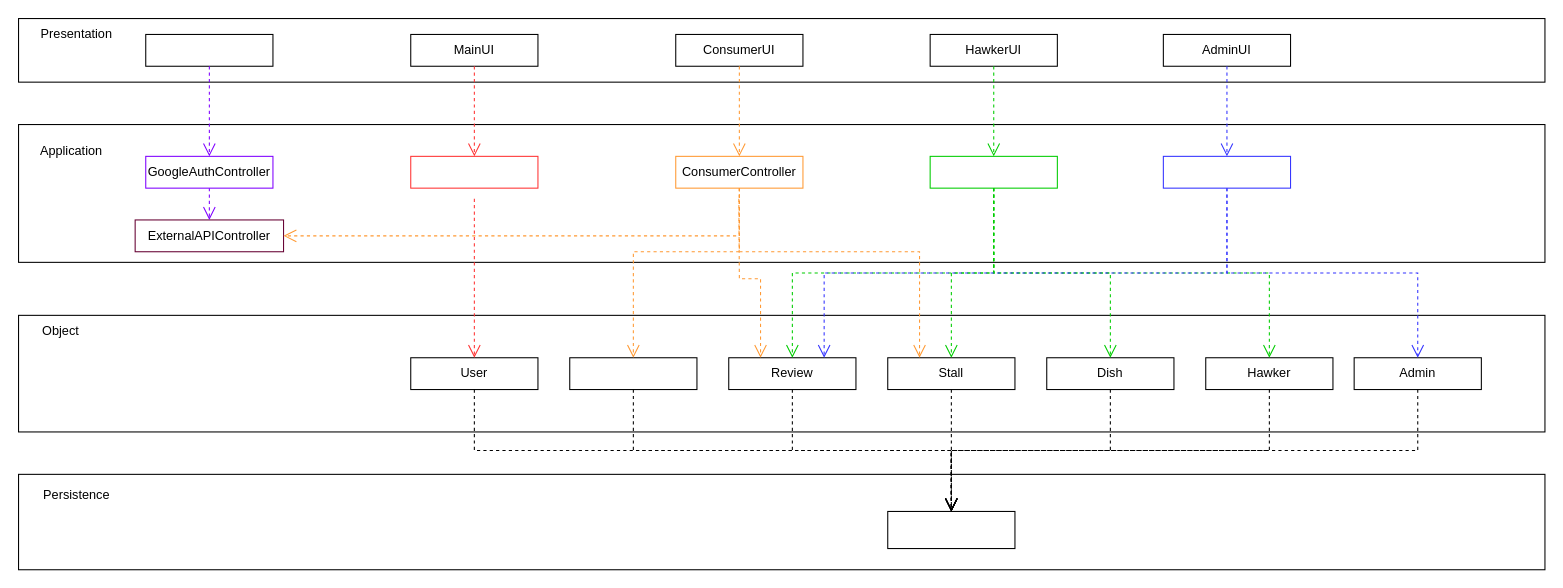
The diagram is 1563 pixels wide and 588 high, and some of its shapes have lost their labels. The centre of each missing label's shape, as x and y in pixels:
"AdminController" belongs at pixel 1226 171.
"AuthController" belongs at pixel 474 171.
"Consumer" belongs at pixel 633 373.
"Database" belongs at pixel 951 529.
"GoogleAuthUI" belongs at pixel 209 49.
"HawkerController" belongs at pixel 993 171.
